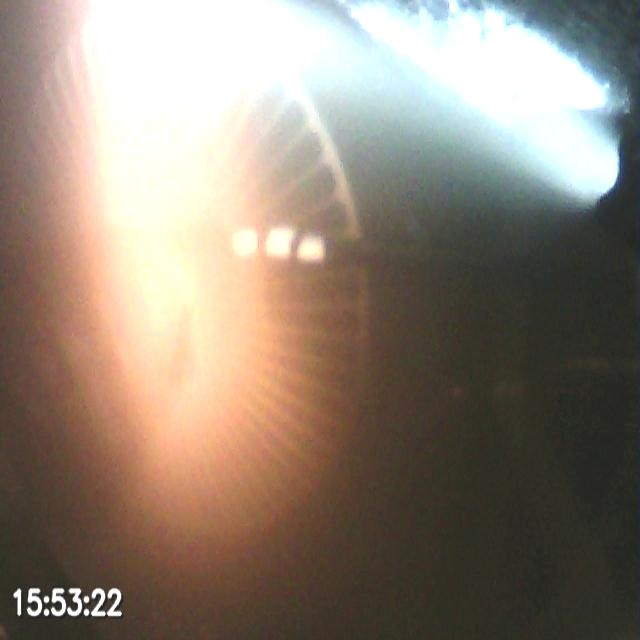white-dots: (231, 225, 329, 268)
